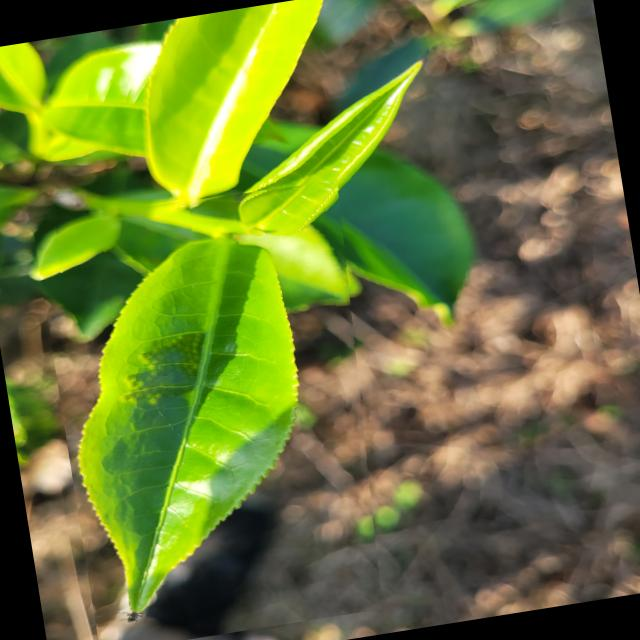Category B(2-4 days): (32, 173, 405, 640)
